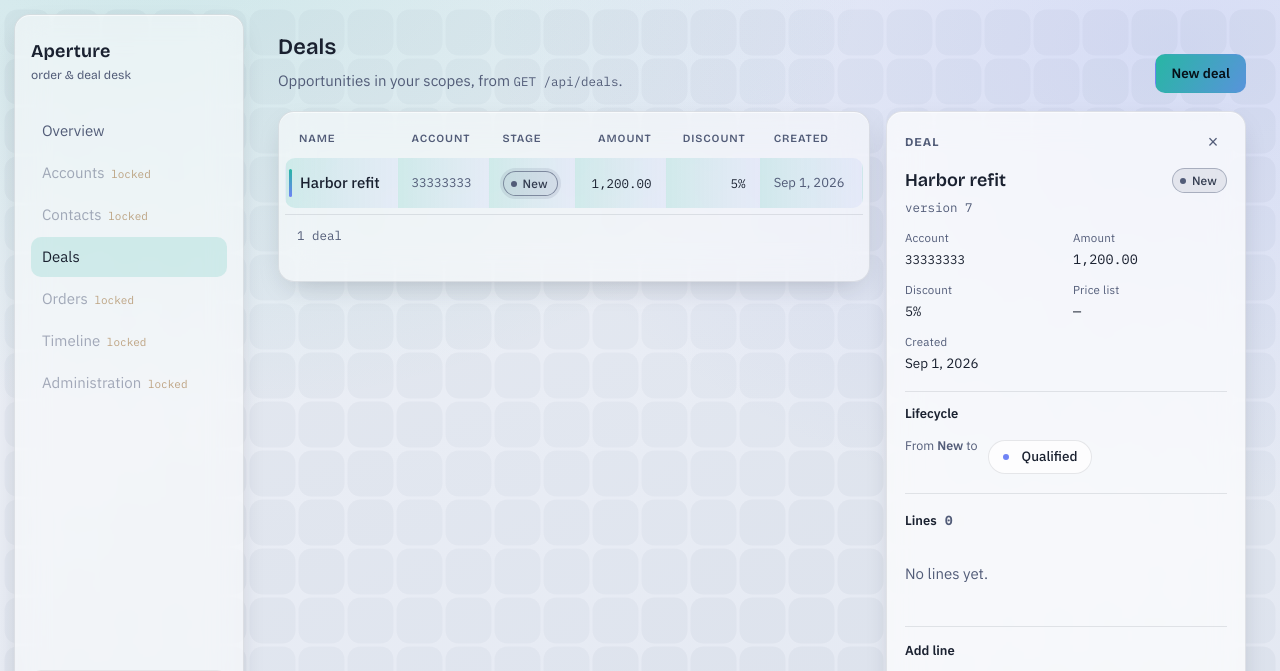
Scenario: Deal lifecycle — the server is the authority › Given a new deal, when it is moved to qualified, then the request carries expectedVersion and the server-returned stage is rendered
This screenshot has width=1280, height=671.
Step 1. Click the button "Qualified" → (1040, 457), box [988,440,1092,474]
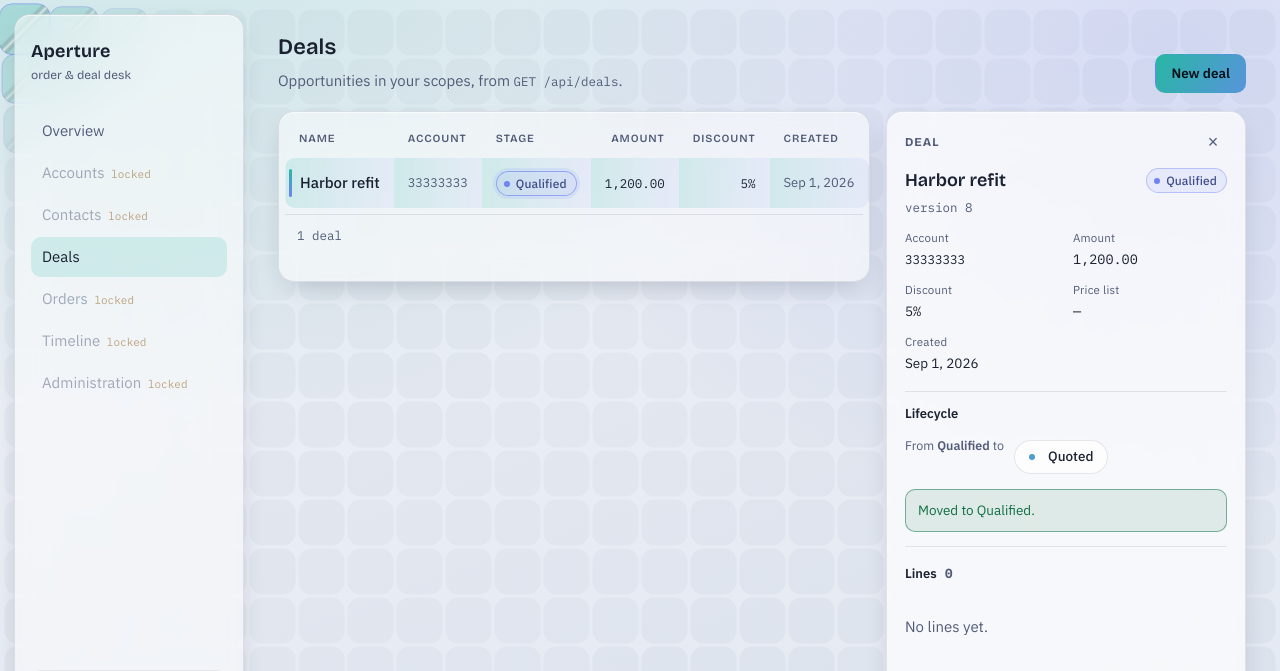
Now the message with test id "lifecycle-done" reads "Moved to Qualified.", box [918,501,1035,519]
